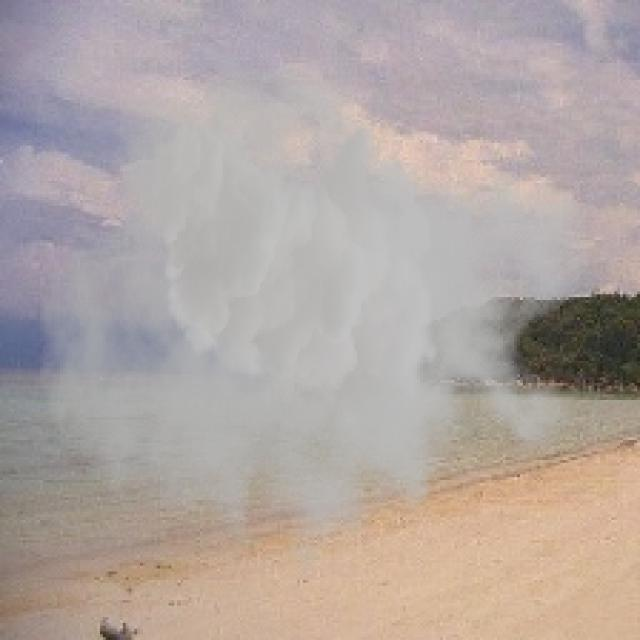Smoke: (37, 46, 594, 603)
